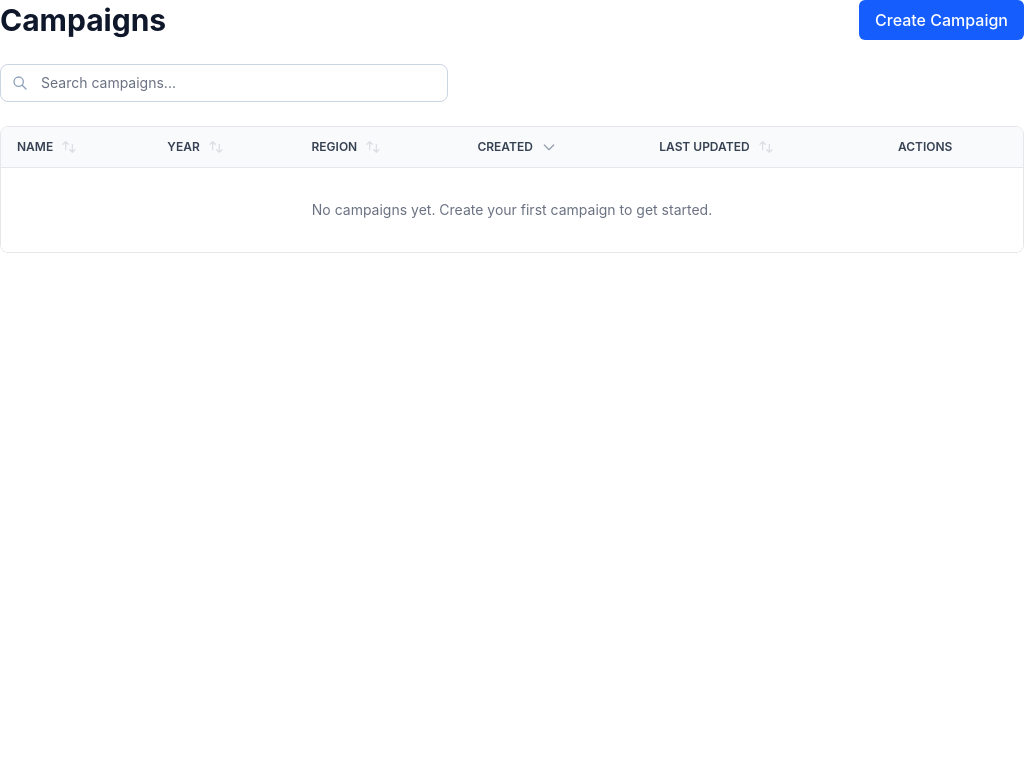
Campaigns List Page › Create › opens create modal on button click
Click the button "Create Campaign" at (942, 20), box [859,0,1023,40]
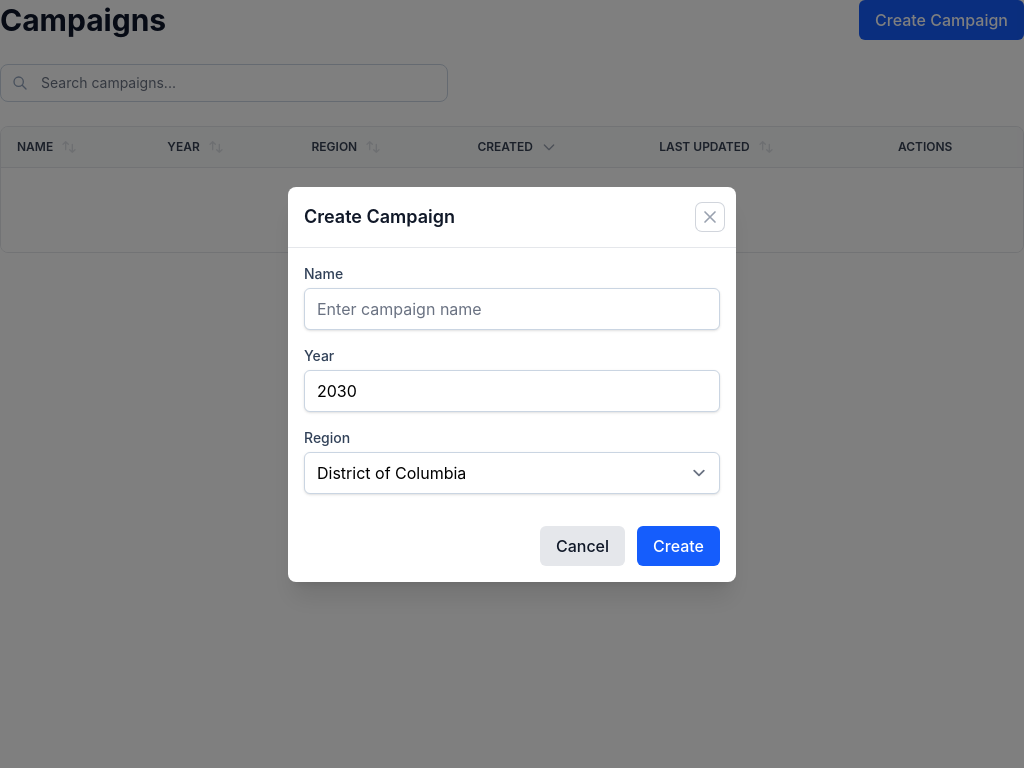
Check: the dialog is shown, box [288,186,736,582]
